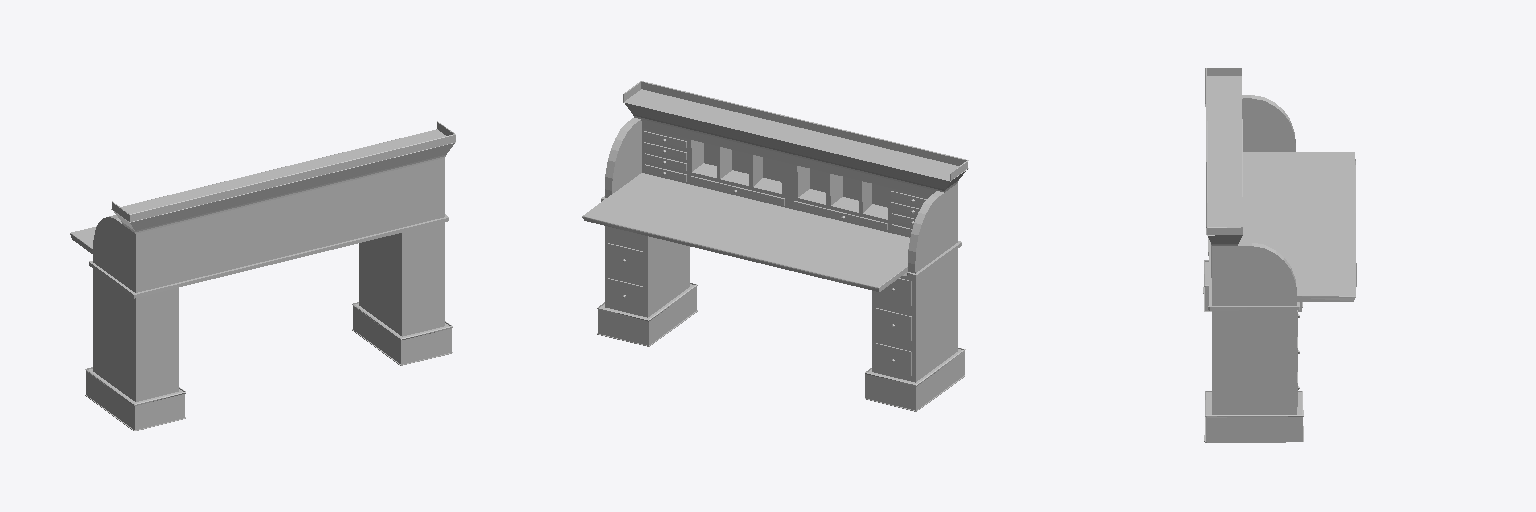
Rendered from Desk001.obj.
3 views of the same model, side by side, from view 1: azimuth 30°, elevation 25°; view 2: azimuth 150°, elevation 25°; view 3: azimuth 270°, elevation 25° (orthographic).
Parts seen in each view (by area): view 1: desk; view 2: desk; view 3: desk.
Boxes of the visible parts, box(x1,y1,x2,y2) form: desk: box(70, 121, 455, 430); desk: box(582, 81, 968, 411); desk: box(1203, 68, 1356, 442).
Size of the model in its own units: 209 by 133 by 84.78.